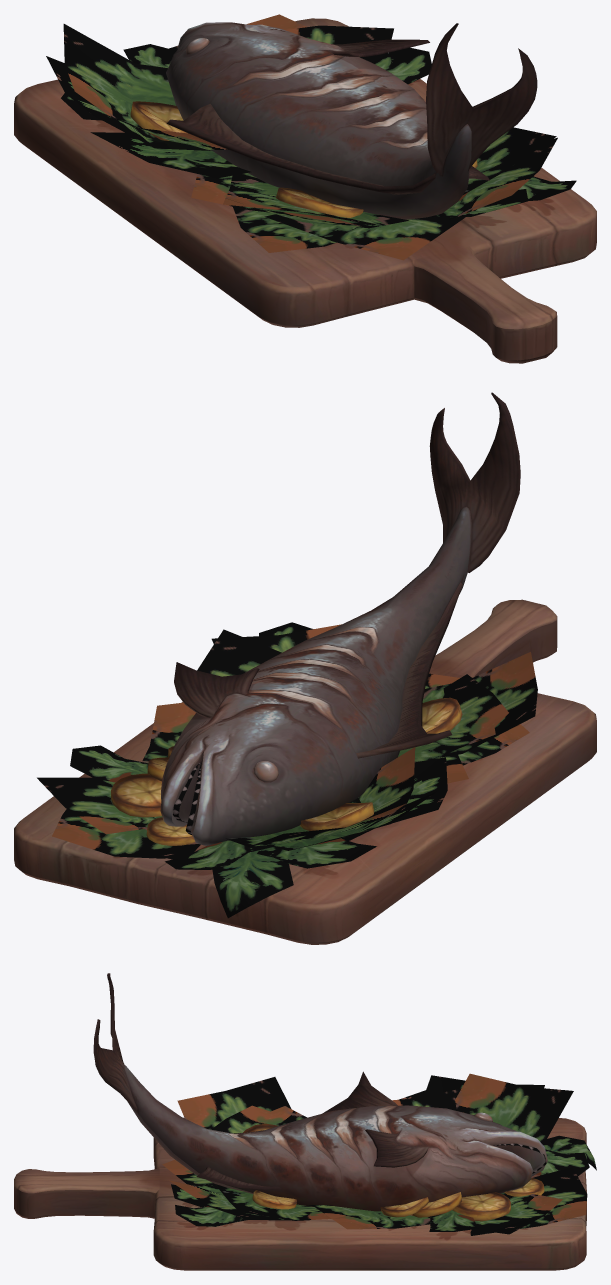
File: fish_dish.fbx
The picture shows the model from 3 angles, top to bottom: view 1: azimuth 30°, elevation 25°; view 2: azimuth 150°, elevation 25°; view 3: azimuth 270°, elevation 25°; orthographic projection. The views are drawn at different scales.
Visible parts, largest first — view 1: fish34, fish24, fish30, fish15, fish6, fish32, fish18, fish12, fish, fish13, fish7, fish28 (+12 smaller); view 2: fish34, fish24, fish30, fish32, fish7, fish16, fish26, fish10, fish11, fish31, fish14, fish13 (+13 smaller); view 3: fish34, fish24, fish15, fish16, fish11, fish30, fish10, fish8, fish13, fish7, fish31, fish33 (+15 smaller).
Part boxes in pixels (left/top/right/bottom): fish34: left=14, top=18, right=596, bottom=363; fish24: left=166, top=22, right=471, bottom=219; fish30: left=426, top=23, right=537, bottom=175; fish15: left=63, top=24, right=175, bottom=137; fish6: left=264, top=209, right=476, bottom=260; fish32: left=166, top=103, right=435, bottom=194; fish18: left=90, top=132, right=251, bottom=178; fish12: left=449, top=137, right=557, bottom=219; fish: left=233, top=206, right=361, bottom=252; fish13: left=463, top=127, right=556, bottom=194; fish7: left=223, top=174, right=375, bottom=224; fish28: left=46, top=56, right=210, bottom=150; fish34: left=14, top=599, right=596, bottom=944; fish24: left=160, top=507, right=471, bottom=845; fish30: left=429, top=392, right=520, bottom=572; fish32: left=356, top=582, right=462, bottom=758; fish7: left=398, top=674, right=519, bottom=762; fish16: left=422, top=652, right=537, bottom=757; fish26: left=212, top=850, right=293, bottom=918; fish10: left=37, top=777, right=161, bottom=834; fish11: left=52, top=809, right=200, bottom=859; fish31: left=174, top=662, right=259, bottom=717; fish14: left=341, top=747, right=415, bottom=841; fish13: left=188, top=629, right=281, bottom=714; fish34: left=14, top=1117, right=586, bottom=1270; fish24: left=124, top=1065, right=547, bottom=1211; fish15: left=455, top=1073, right=573, bottom=1144; fish16: left=177, top=1077, right=291, bottom=1129; fish11: left=470, top=1167, right=587, bottom=1235; fish30: left=93, top=973, right=137, bottom=1113; fish10: left=428, top=1192, right=562, bottom=1234; fish8: left=302, top=1205, right=430, bottom=1229; fish13: left=215, top=1184, right=345, bottom=1220; fish7: left=211, top=1105, right=306, bottom=1133; fish31: left=365, top=1129, right=428, bottom=1167; fish33: left=452, top=1192, right=510, bottom=1221.
Bounding box in the file's own units: 101 × 81.63 × 188.
1 material, 1 textured.
